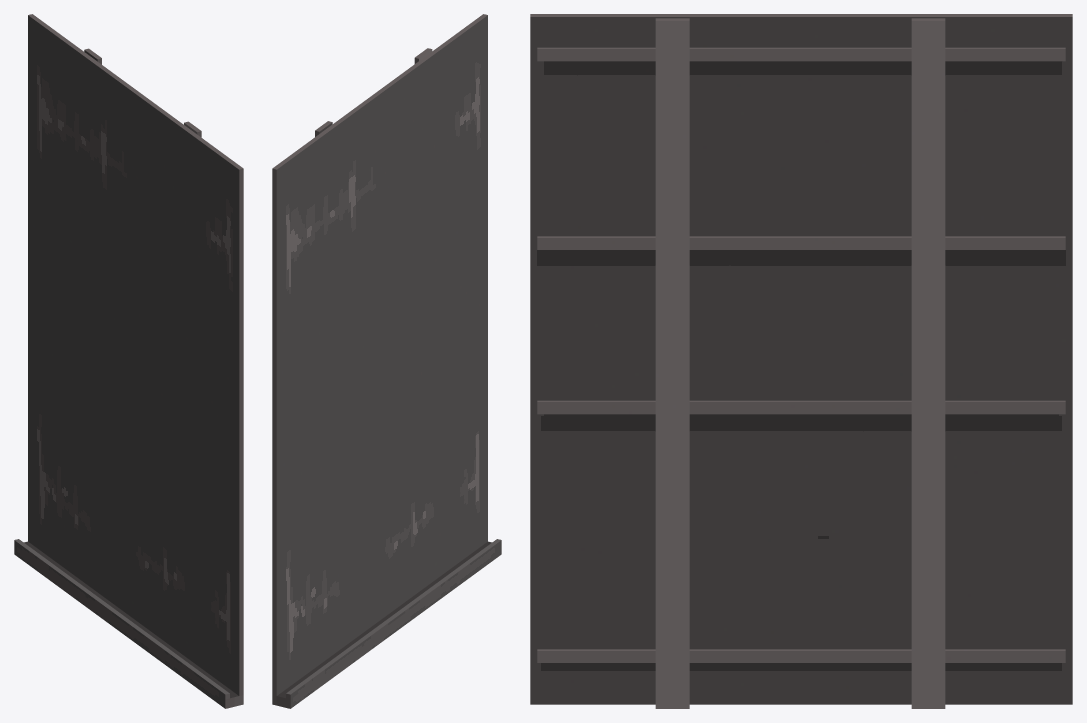
File: Ad_mount.gltf
3 views of the same model, side by side, from view 1: azimuth 30°, elevation 25°; view 2: azimuth 150°, elevation 25°; view 3: azimuth 270°, elevation 25° (orthographic). The views are drawn at different scales.
Visible parts, largest first — view 1: cuboid; view 2: cuboid; view 3: cuboid, cube (×6).
Part boxes in pixels (x1,y1,x2,y2): cuboid: (14,14,243,708); cuboid: (272,14,501,708); cuboid: (530,14,1072,704); cube (×6): (537,18,1065,708).
Bounding box in the file's own units: 0.3438 × 7 × 5.
7 materials, 7 textured.
